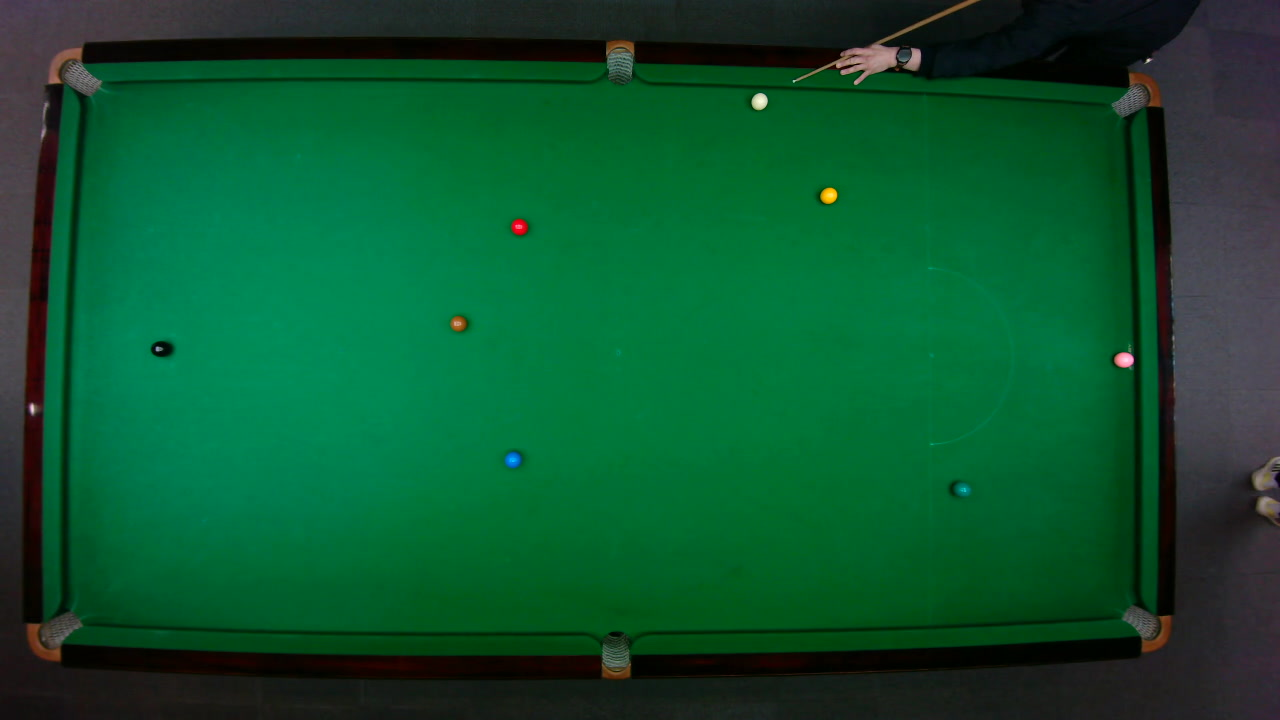bag: (25, 609, 84, 661), (45, 47, 102, 96), (1119, 603, 1172, 652), (1108, 71, 1161, 118), (600, 629, 630, 680), (605, 38, 633, 85)
black: (149, 339, 171, 357)
blue: (503, 450, 522, 468)
brown: (449, 314, 467, 331)
cue: (787, 0, 989, 89)
green: (950, 480, 972, 497)
pink: (1112, 350, 1134, 368)
red: (509, 217, 528, 235)
white: (749, 91, 768, 111)
yellow: (818, 186, 838, 204)
zone: (927, 266, 1013, 445)
